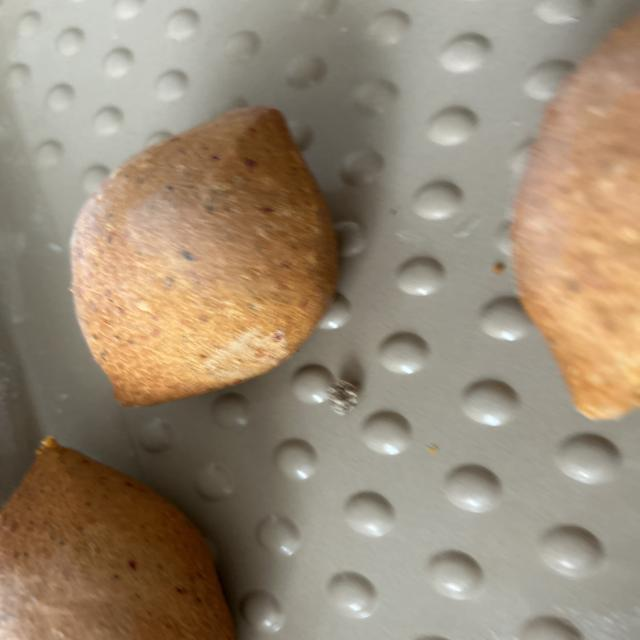kobi: (69, 104, 341, 407), (513, 18, 640, 440), (0, 435, 242, 640)
